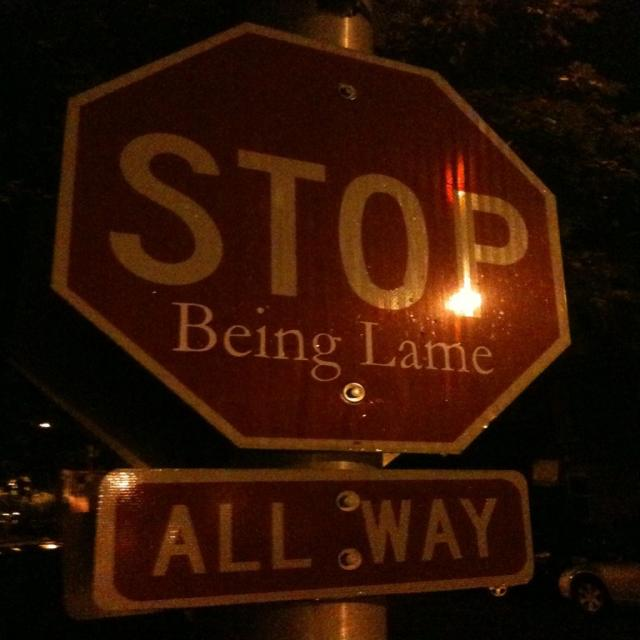Stop-sign: (49, 21, 571, 457)
